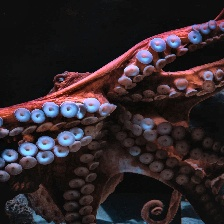octopus: (0, 11, 224, 223)
